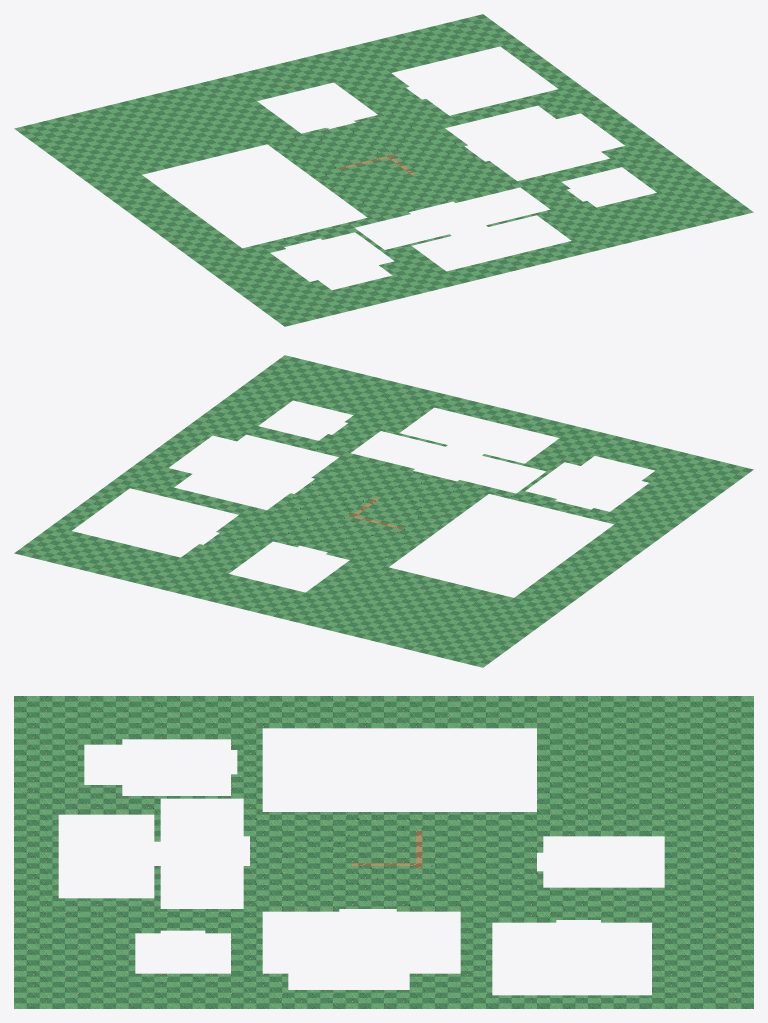
Rendered from vn_town_ground.glb.
3 renders of one model, top to bottom at view 1: azimuth 30°, elevation 25°; view 2: azimuth 150°, elevation 25°; view 3: azimuth 270°, elevation 25°, orthographic. The views are drawn at different scales.
Visible parts, largest first — view 1: TownGrass; view 2: TownGrass; view 3: TownGrass.
Part boxes in pixels (<box>): TownGrass: <box>14,14,753,326</box>; TownGrass: <box>14,355,753,667</box>; TownGrass: <box>14,696,753,1008</box>.
Size of the model in its own units: 232 by 1.09 by 232.
Materials: 3 (3 with a texture image).
